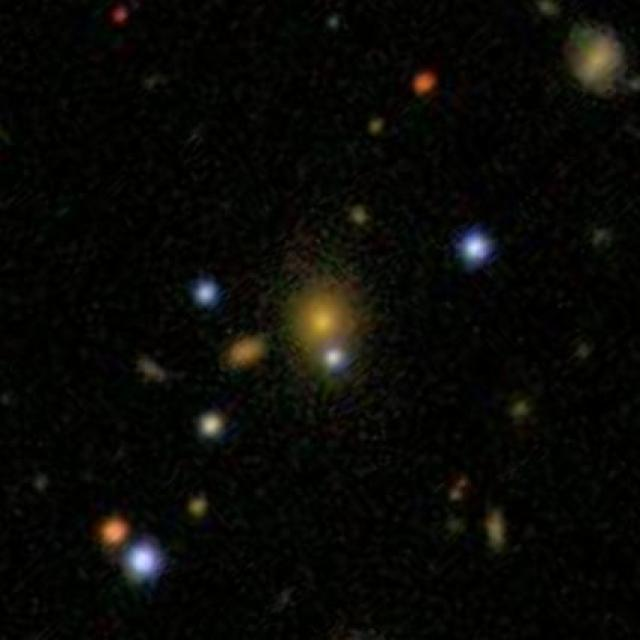galaxy: (274, 233, 383, 400), (564, 20, 640, 102), (224, 329, 271, 379), (453, 225, 497, 273), (123, 541, 167, 587), (479, 506, 512, 558), (97, 511, 133, 555), (135, 351, 170, 391), (197, 406, 228, 447), (321, 340, 354, 377), (193, 277, 222, 310), (447, 471, 472, 508), (505, 395, 535, 425), (348, 199, 372, 231), (414, 65, 437, 97), (187, 493, 212, 519), (364, 112, 388, 137), (29, 469, 53, 493), (110, 3, 131, 25), (575, 342, 592, 365), (327, 14, 344, 35)
